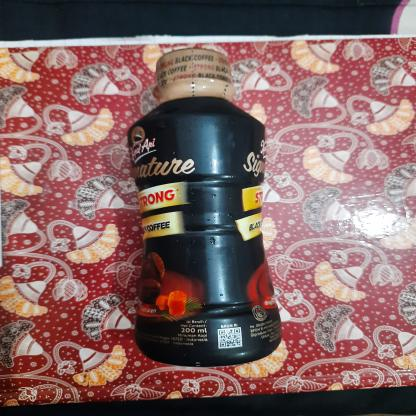bottle: (122, 44, 288, 368)
